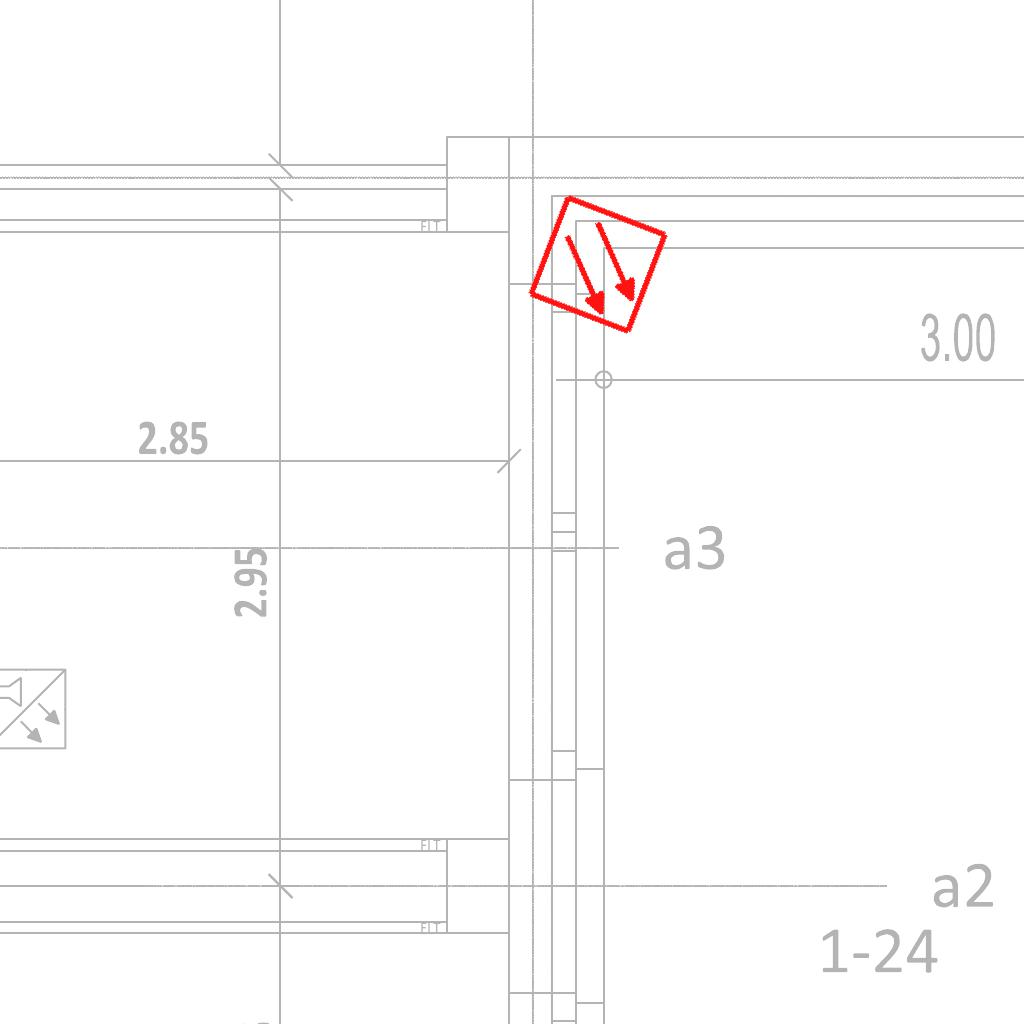RMO_Rauchmelder_optischer: (525, 191, 672, 338)
